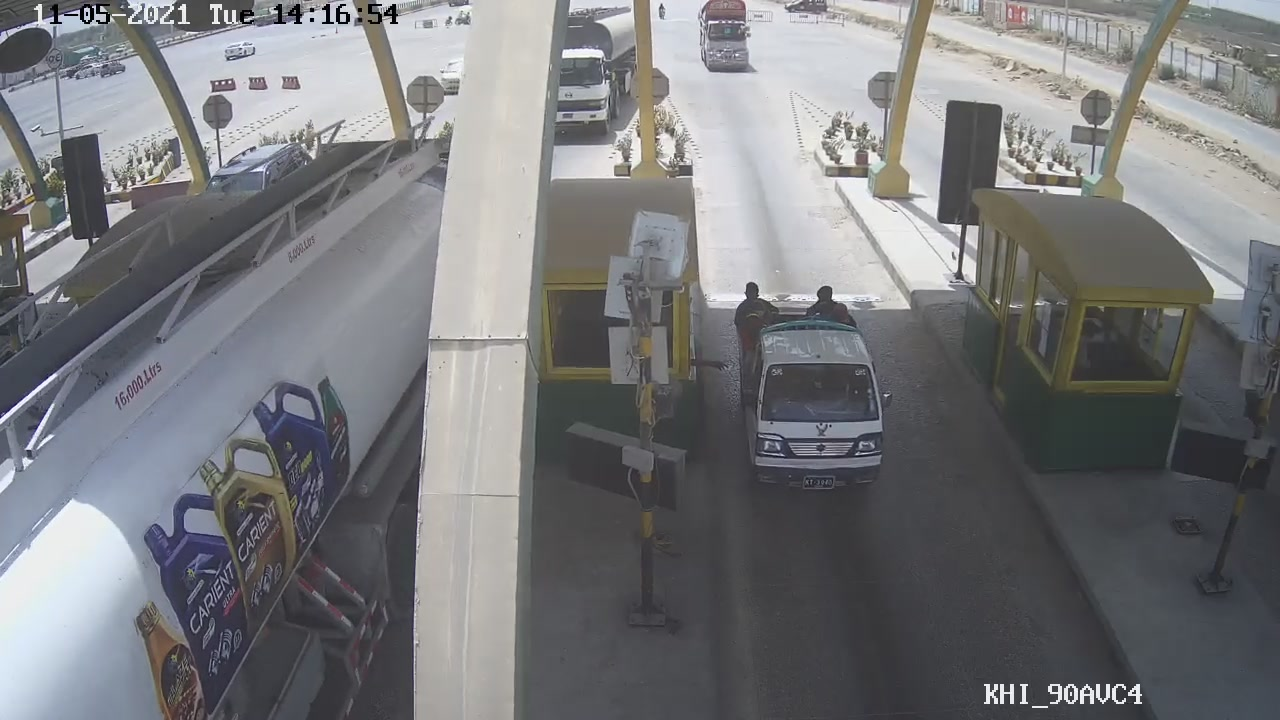F1: (717, 309, 898, 497)
